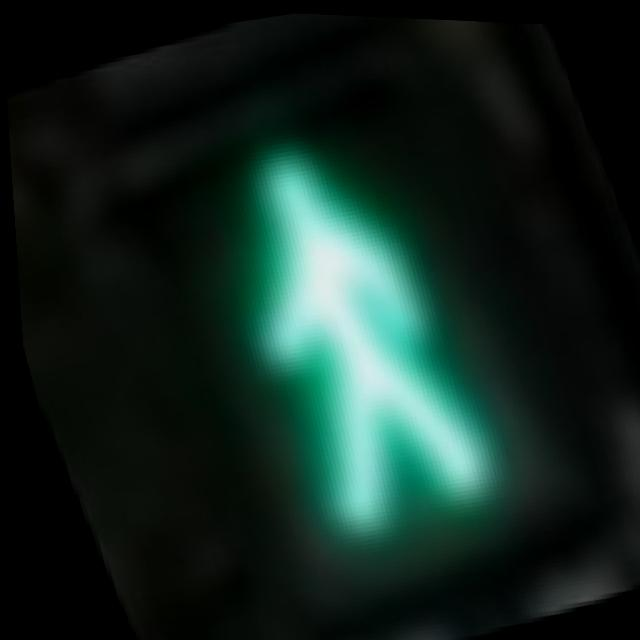green_light: (97, 65, 576, 611)
